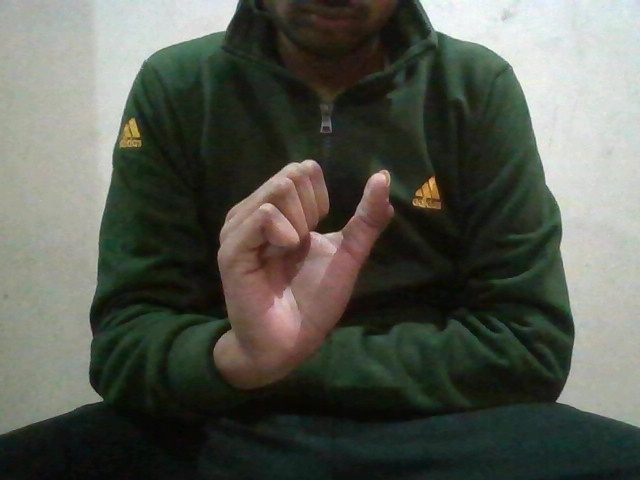S: (209, 155, 396, 361)
